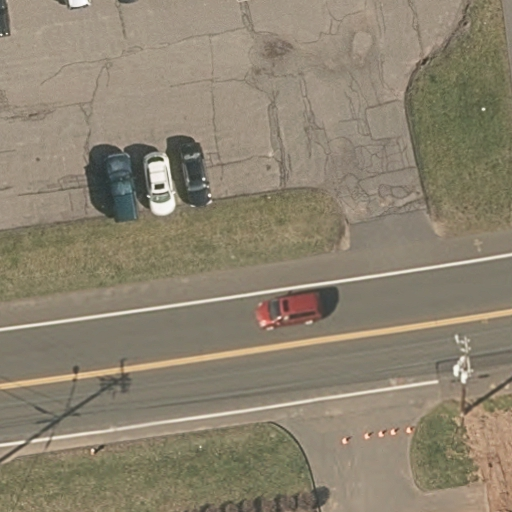DT: (441, 324, 484, 433)
